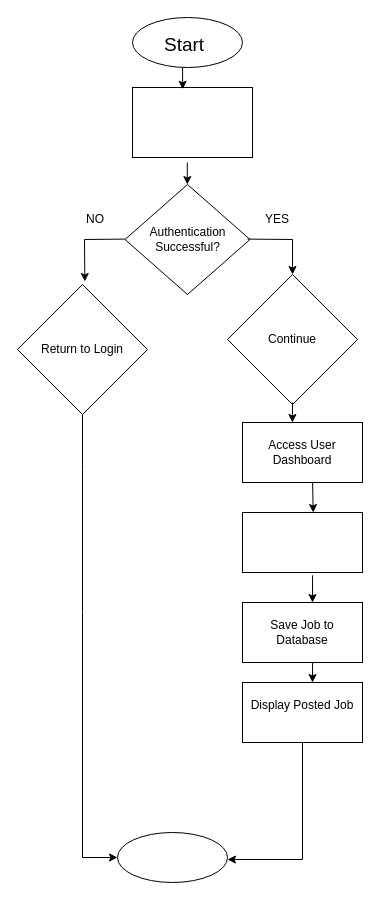
The diagram is 380 pixels wide and 900 high, and some of its shapes have lost their labels. Each missing label, with the box of its shape:
END: (116, 832, 228, 882)
Enter Job Details: (242, 512, 362, 572)
Login Using Google OAuth: (132, 86, 252, 158)
